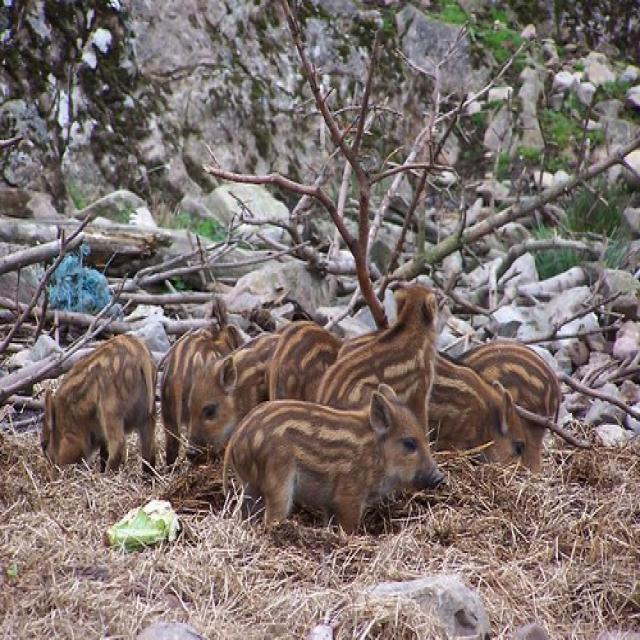boar: (220, 373, 455, 562), (320, 261, 452, 462), (29, 321, 161, 483), (427, 331, 578, 459), (409, 338, 539, 480), (185, 316, 284, 467), (266, 317, 346, 421)
